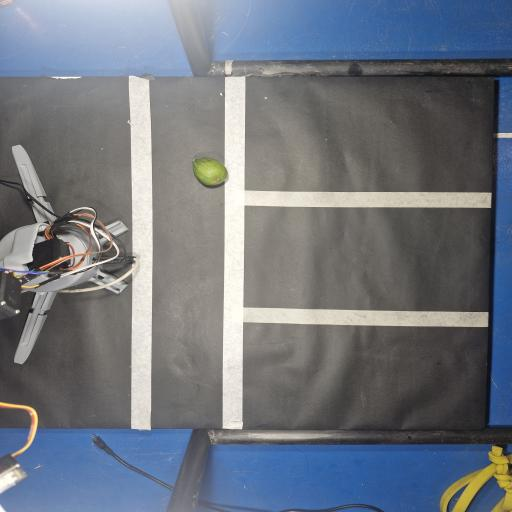higo: (193, 158, 227, 186)
